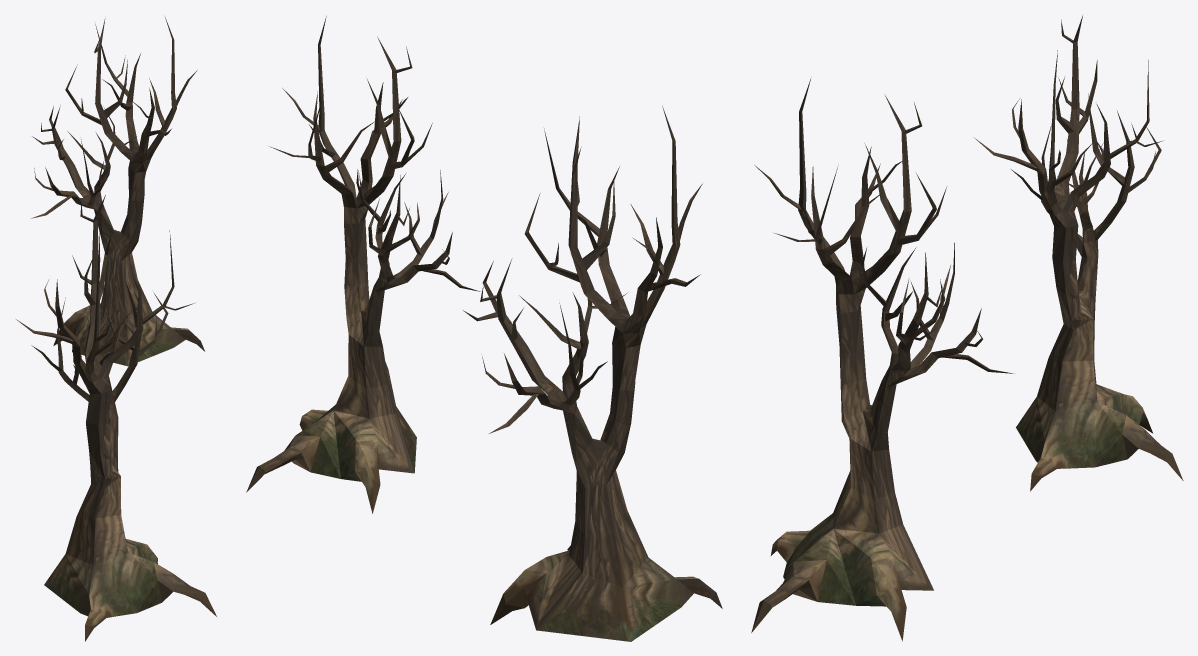
File: plants_tall_tree_trunks02.fbx
The picture shows the model from 3 angles, left to right: view 1: azimuth 30°, elevation 25°; view 2: azimuth 150°, elevation 25°; view 3: azimuth 270°, elevation 25°; orthographic projection. The views are drawn at different scales.
Parts seen in each view (by area): view 1: obj0.139; view 2: obj0.139; view 3: obj0.139.
Part boxes in pixels (x1,y1,x2,y2): obj0.139: (16,17,216,641); obj0.139: (246,16,722,641); obj0.139: (751,15,1183,641).
Size of the model in its own units: 5.83 by 11.05 by 6.79.
